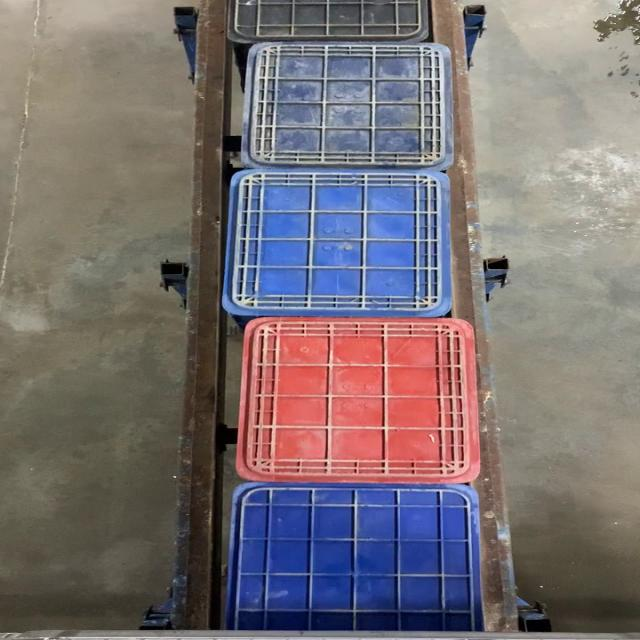Box: (237, 318, 479, 486), (224, 171, 450, 318), (241, 41, 459, 170)
